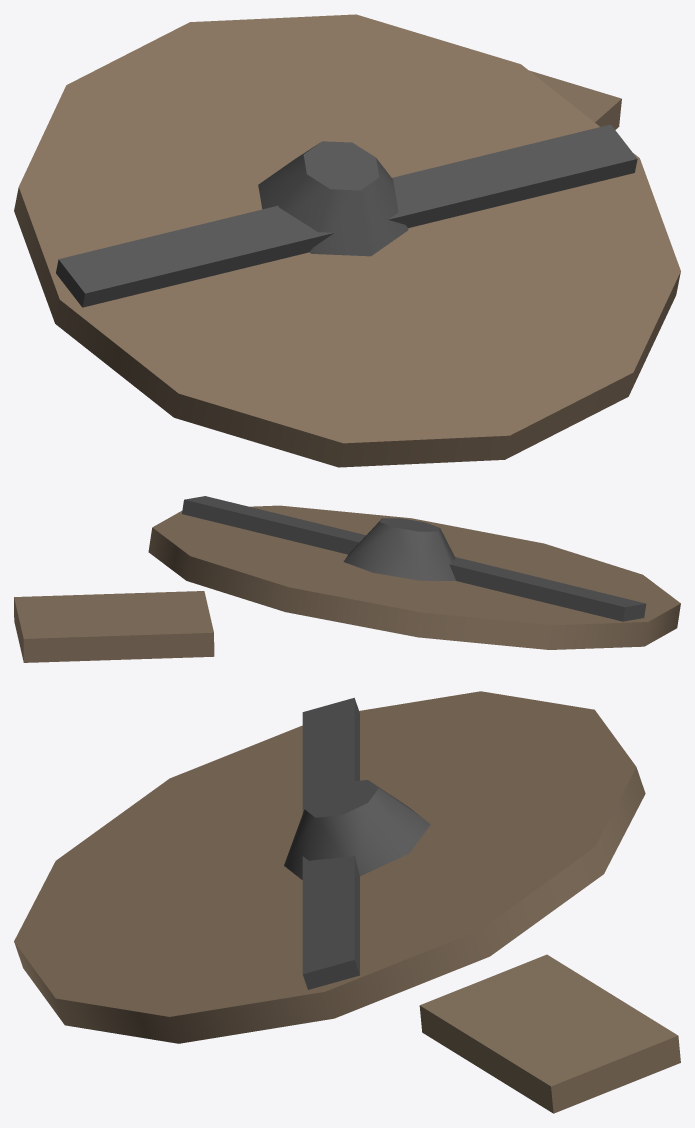
The model's file is shield_broken.glb.
3 renders of one model, top to bottom at view 1: azimuth 30°, elevation 25°; view 2: azimuth 150°, elevation 25°; view 3: azimuth 270°, elevation 25°, orthographic. The views are drawn at different scales.
Parts seen in each view (by area): view 1: wood, iron; view 2: wood, iron; view 3: wood, iron.
Boxes of the visible parts, <box> form: wood: <box>14,14,680,467</box>; iron: <box>56,124,637,307</box>; wood: <box>14,505,680,662</box>; iron: <box>182,496,646,621</box>; wood: <box>14,691,680,1113</box>; iron: <box>284,697,430,989</box>.
Bounding box in the file's own units: 0.9822 × 0.2865 × 0.8599.
